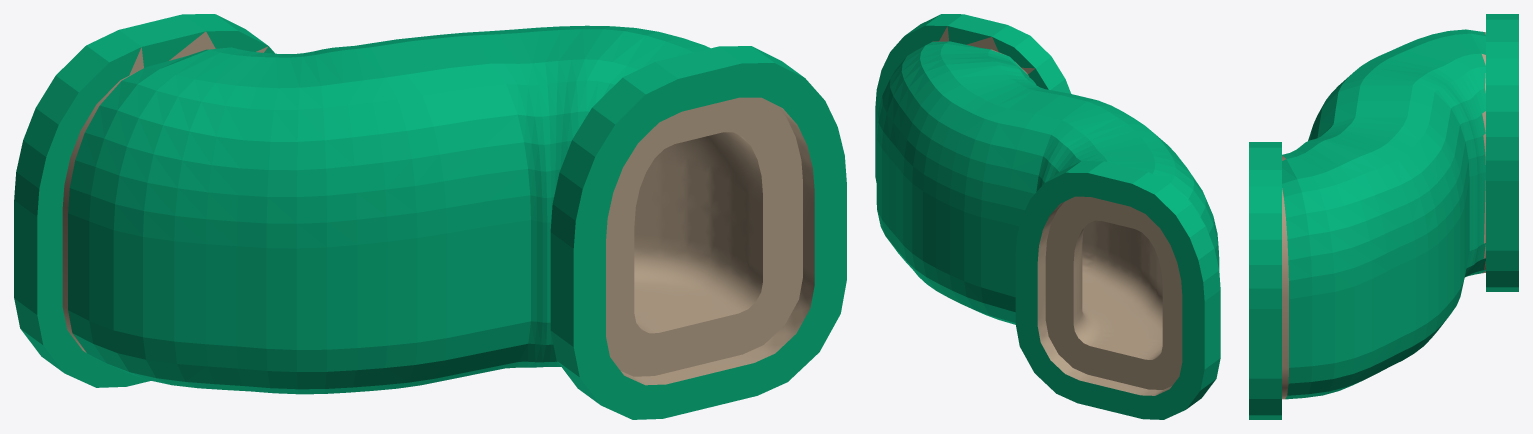
Rendered from TT_Dogleg_L_A.fbx.
The picture shows the model from 3 angles, left to right: view 1: azimuth 30°, elevation 25°; view 2: azimuth 150°, elevation 25°; view 3: azimuth 270°, elevation 25°; orthographic projection. The views are drawn at different scales.
Parts seen in each view (by area): view 1: TT_Dogleg_L_A_LOD0; view 2: TT_Dogleg_L_A_LOD0; view 3: TT_Dogleg_L_A_LOD0.
Part boxes in pixels (<box>): TT_Dogleg_L_A_LOD0: <box>14,14,846,419</box>; TT_Dogleg_L_A_LOD0: <box>875,14,1220,419</box>; TT_Dogleg_L_A_LOD0: <box>1249,14,1518,419</box>.
Size of the model in its own units: 800 by 400 by 410.
